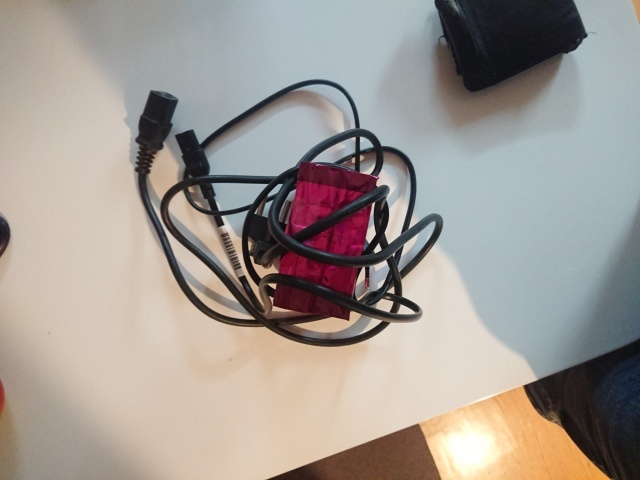Barcaffe Classic Original 225g: (271, 160, 382, 323)
